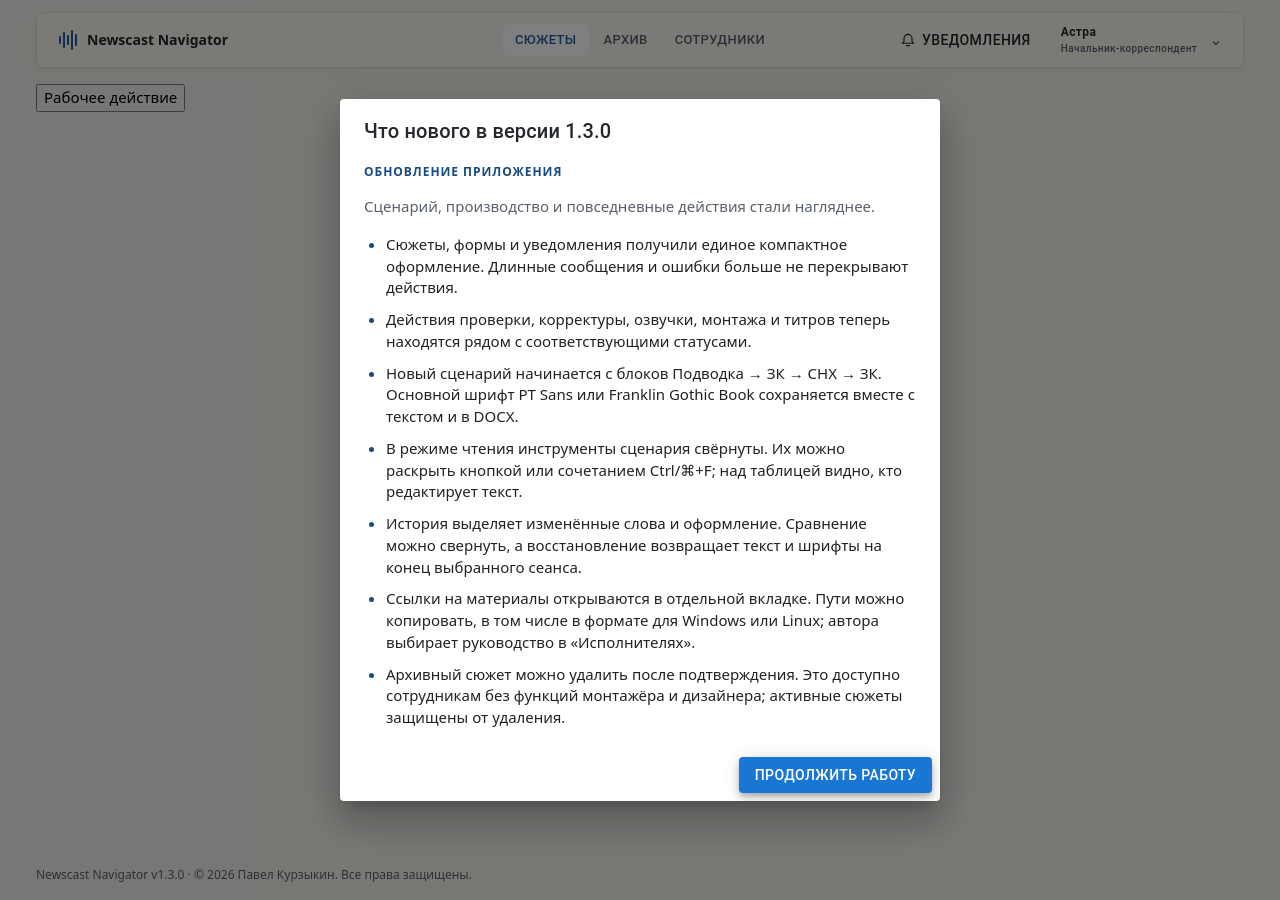
Test: AppShell Editorial Air identity › connects the authenticated user to release notes for APP_VERSION
Click the button "Продолжить работу" at (835, 775), box [739, 757, 932, 793]
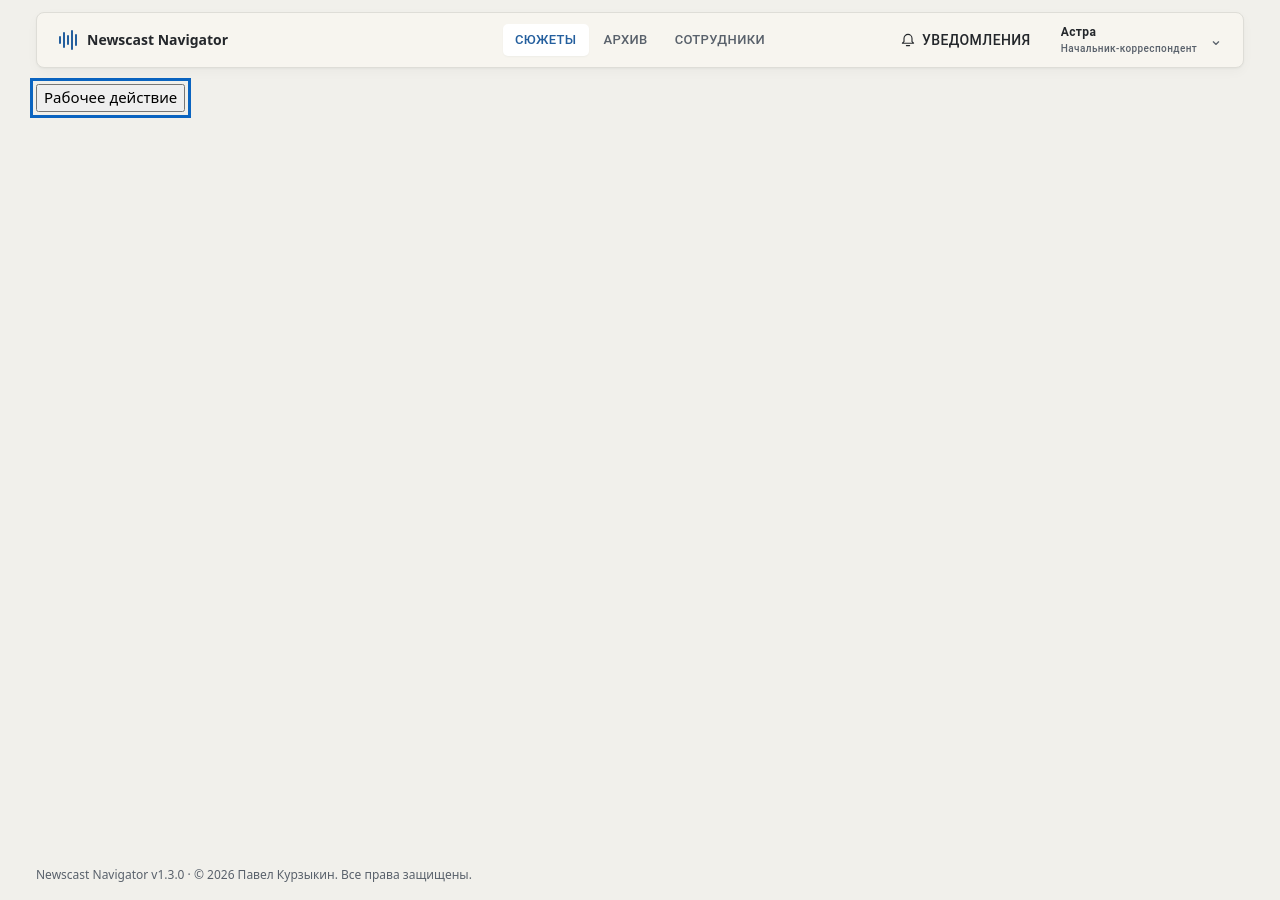
Result: the dialog is gone
